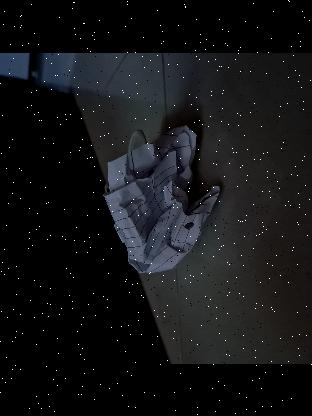Others: (102, 124, 220, 274)
